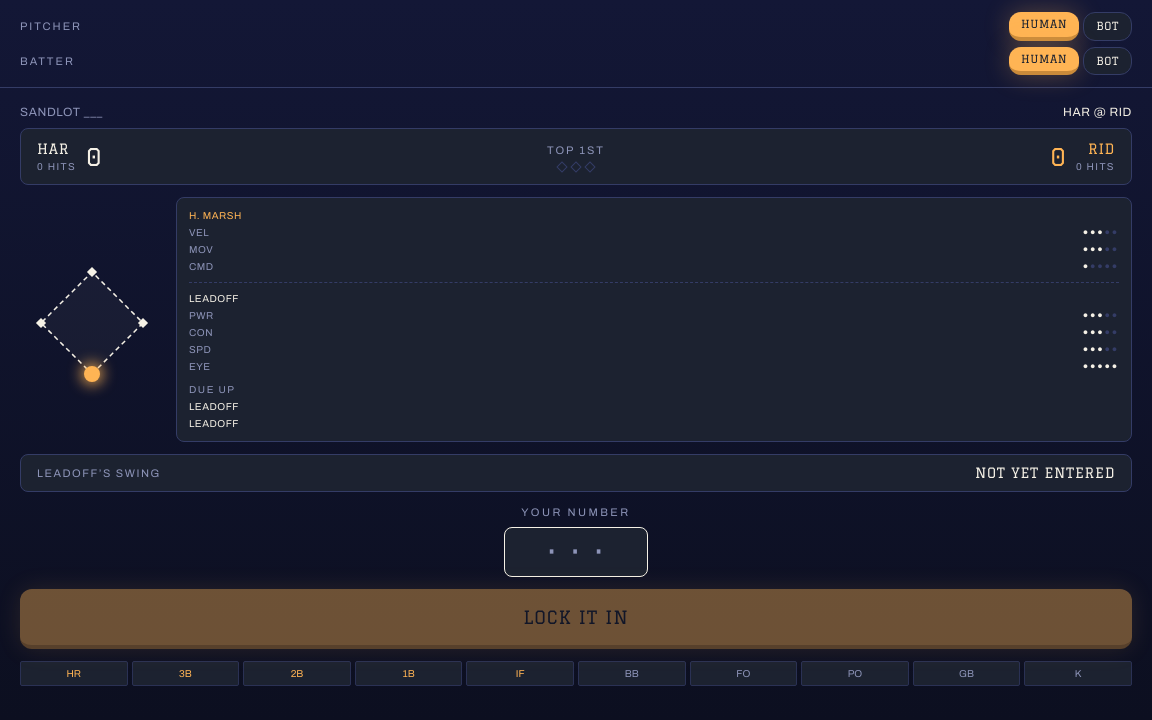
DuelPlay › plays a bot-vs-bot half-inning to completion with no human input
Expected: the field labelled "your number" is shown, [504, 526, 648, 576]
Click the button with aria-label "set pitcher to bot" at (1108, 26), box [1083, 12, 1132, 40]
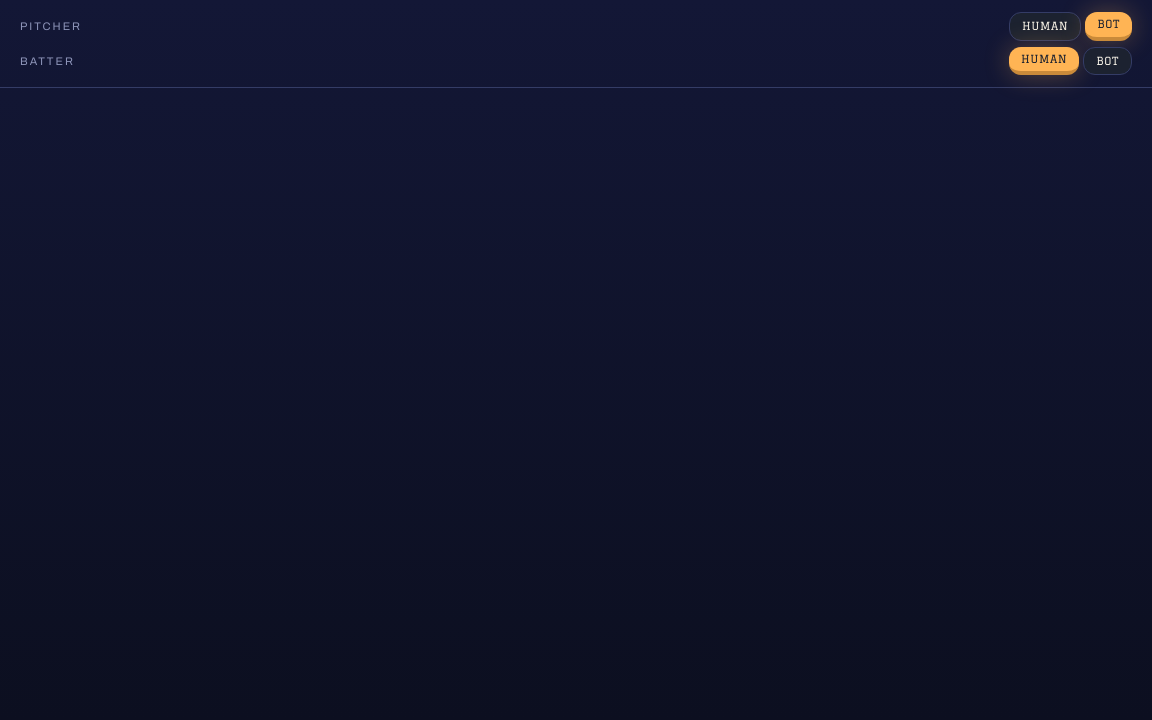
Click the button with aria-label "set batter to bot" at (1108, 61), box [1083, 46, 1132, 75]
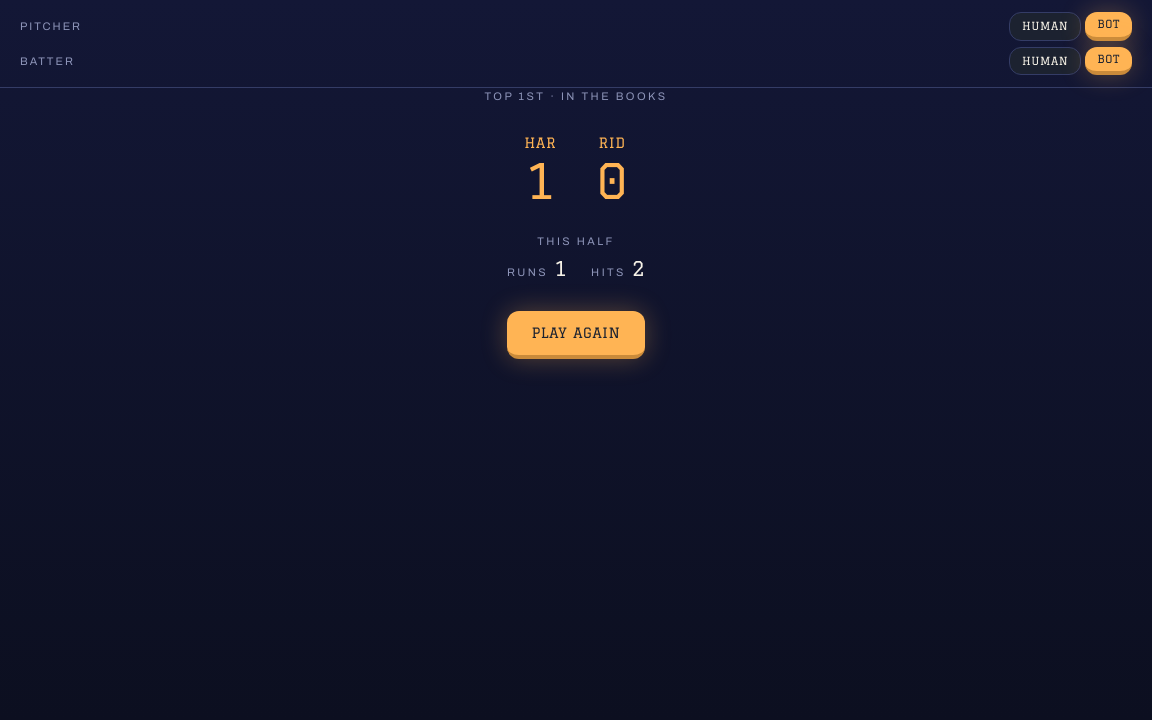
Expected: the label labelled "your number" is not shown
Expected: the heading "TOP 1ST · in the books" is shown, [484, 88, 668, 104]
